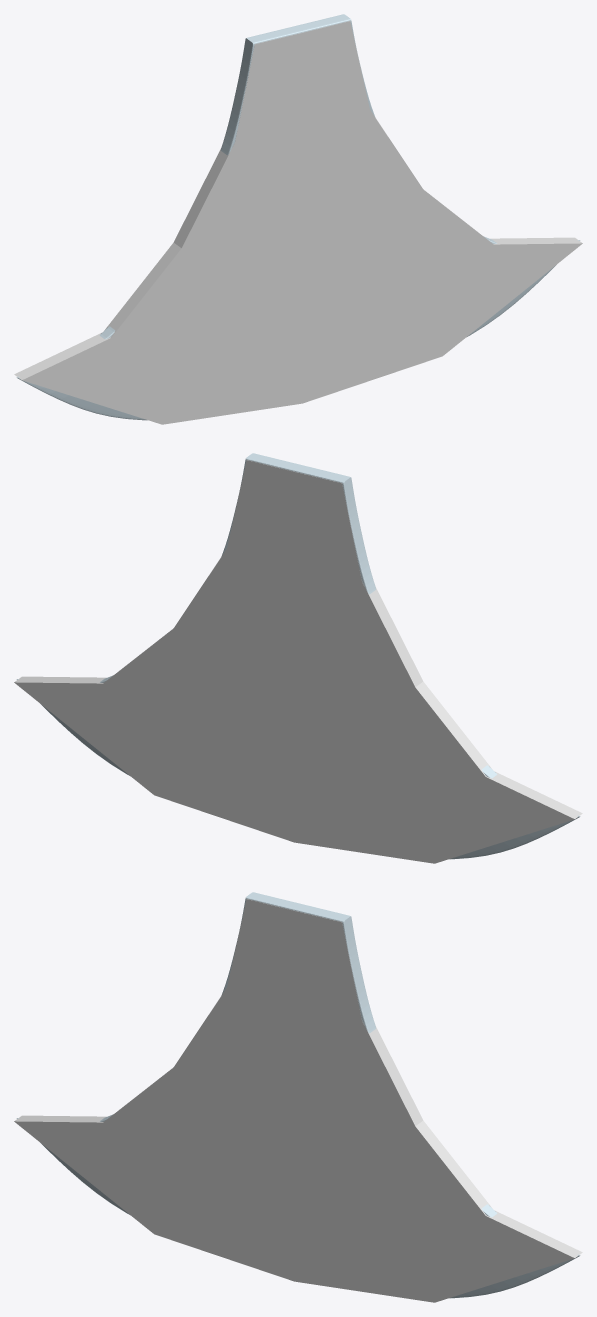
3 renders of one model, top to bottom at view 1: azimuth 30°, elevation 25°; view 2: azimuth 150°, elevation 25°; view 3: azimuth 330°, elevation 25°, orthographic.
Visible parts, largest first — view 1: ЗАЛУПА, член; view 2: ЗАЛУПА, член; view 3: ЗАЛУПА, член.
Boxes of the visible parts, <box> form: ЗАЛУПА: <box>14,21,582,424</box>; член: <box>16,14,580,420</box>; ЗАЛУПА: <box>14,460,582,863</box>; член: <box>16,453,580,859</box>; ЗАЛУПА: <box>14,899,582,1302</box>; член: <box>16,892,580,1298</box>.
Size of the model in its own units: 1147 by 724 by 28.43.
